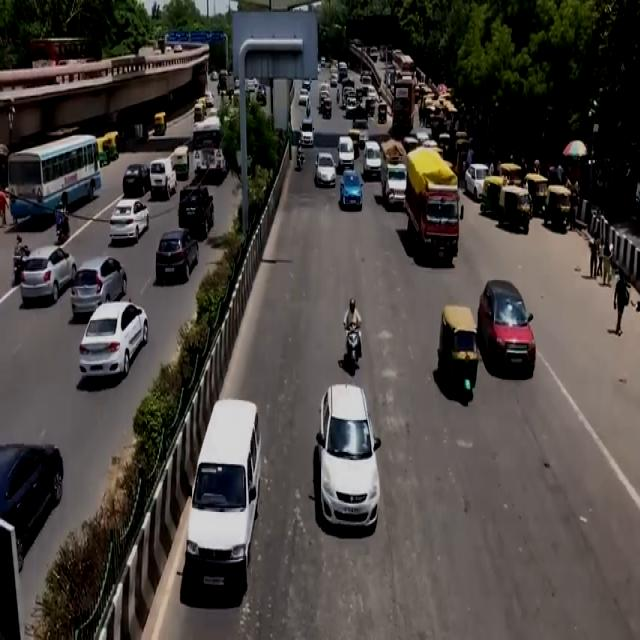BUS: (9, 133, 104, 210), (392, 76, 418, 133)
TRUCK: (409, 150, 462, 270), (383, 141, 407, 216)
